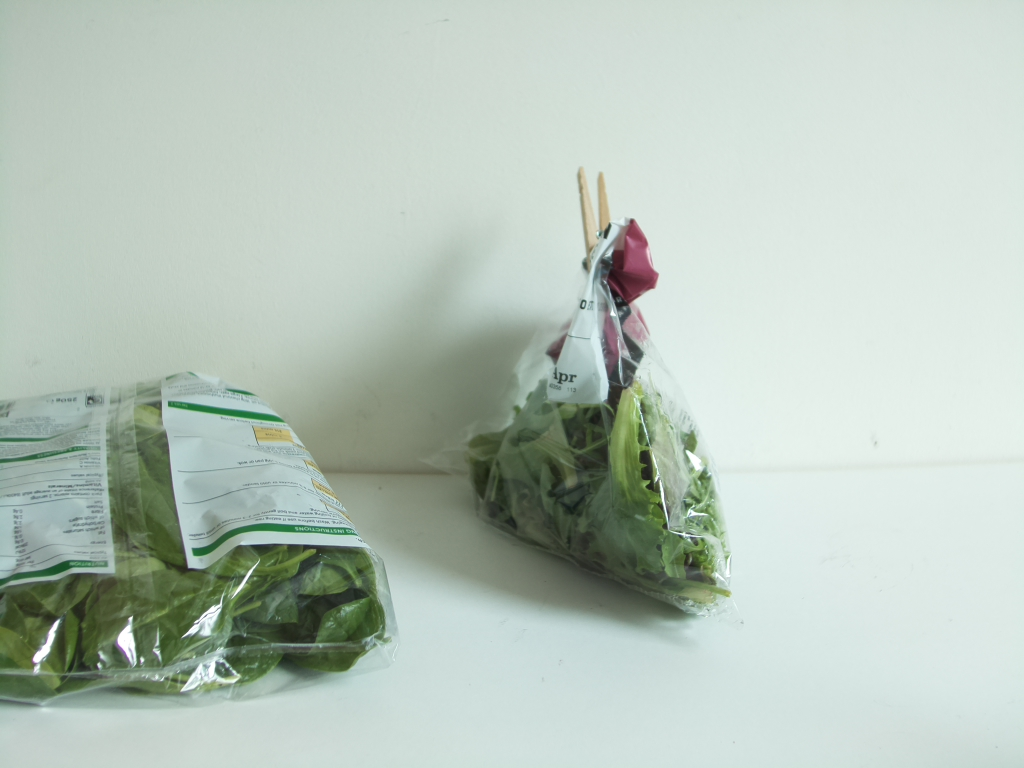salad: (1, 375, 396, 703), (468, 219, 740, 619)
